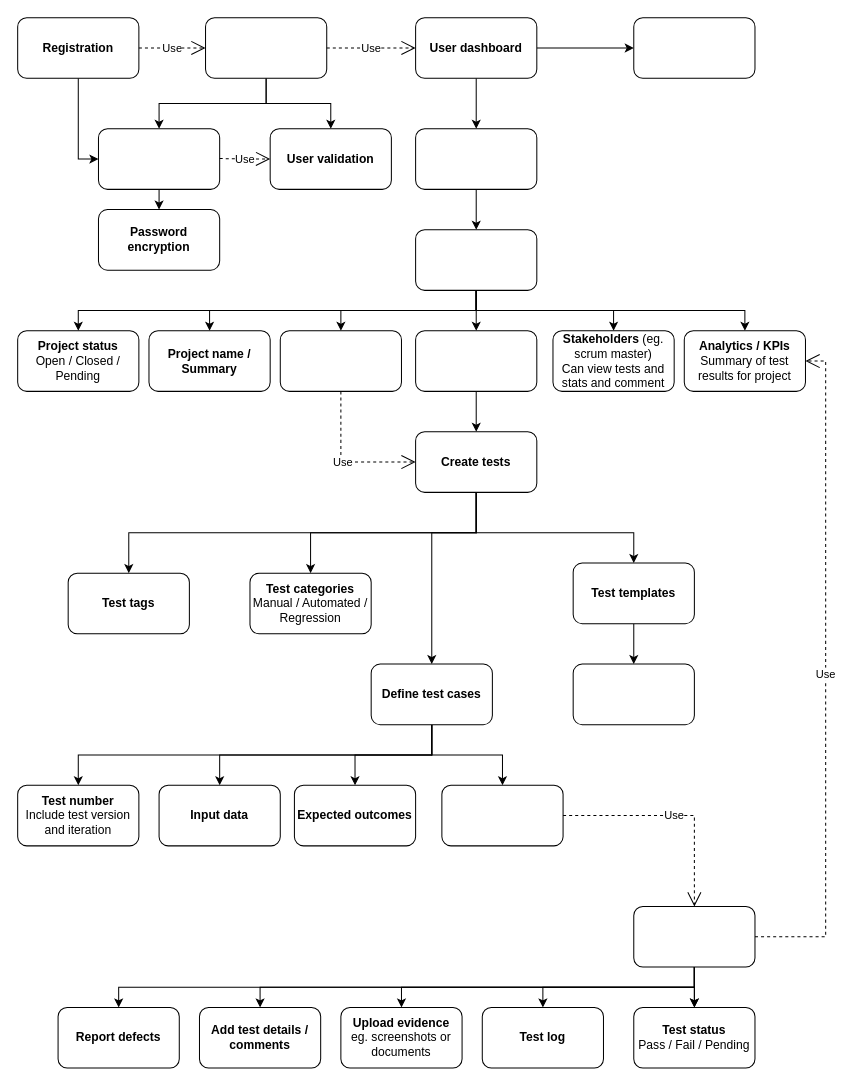
The diagram is 857 pixels wide and 1086 high, and some of its shapes have lost their labels. Each missing label, with the centre of its shape:
"Acceptance criteria Can be attached to tests and indexed" goes at point 340,360.
"Common scripts Auto add a set of tests to project" goes at point 633,694.
"Developers / Testers Can start and stop tests" goes at point 476,360.
"Document test outcome" goes at point 694,936.
"Documentation" goes at point 694,47.
"Login" goes at point 266,47.
"Open projects" goes at point 476,158.
"Project details" goes at point 476,259.
"Test steps" goes at point 502,815.
"User database" goes at point 158,158.
